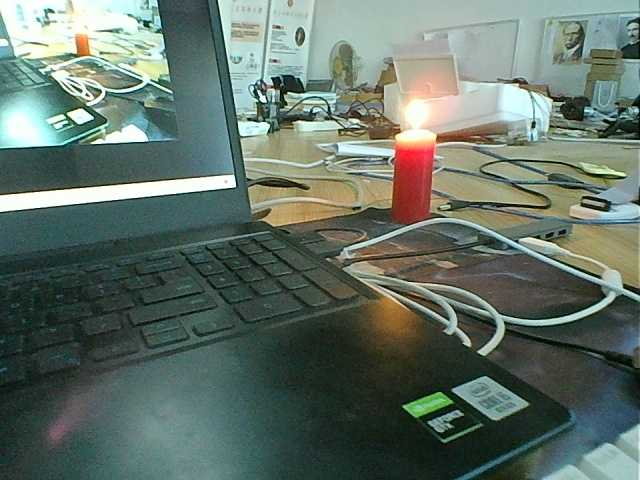candle: (389, 135, 442, 227)
fire: (397, 96, 436, 132)
